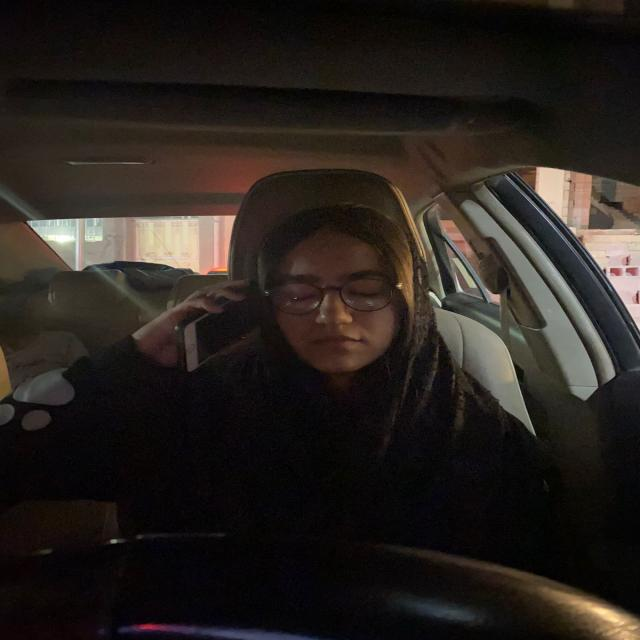mobile: (176, 284, 268, 383)
person: (247, 201, 429, 383)
